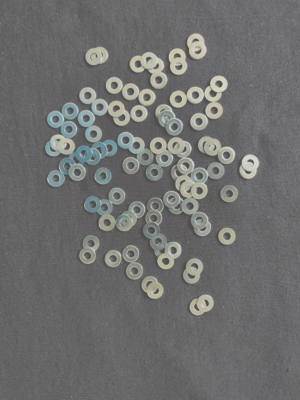circle: (182, 267, 202, 286), (121, 157, 141, 176), (47, 170, 66, 190), (103, 249, 122, 268), (149, 233, 168, 252), (93, 167, 112, 186), (116, 131, 135, 150), (85, 124, 104, 143), (186, 33, 205, 52), (97, 215, 117, 233), (174, 175, 194, 193), (144, 164, 164, 182), (209, 75, 229, 93), (140, 276, 159, 294), (189, 299, 207, 318), (78, 248, 97, 266), (81, 235, 100, 253), (165, 242, 183, 261), (96, 199, 114, 218), (218, 227, 237, 245), (100, 139, 118, 158), (128, 137, 147, 155), (155, 150, 174, 168), (150, 136, 168, 155), (220, 185, 239, 203), (197, 136, 216, 154), (239, 162, 258, 180), (46, 111, 65, 129), (78, 109, 96, 128), (84, 48, 102, 67), (105, 77, 124, 95), (122, 83, 140, 102), (130, 105, 148, 124), (150, 72, 169, 90), (205, 84, 223, 103), (123, 244, 140, 264), (174, 141, 194, 158), (168, 136, 185, 156), (92, 46, 109, 66), (190, 114, 210, 131), (186, 258, 204, 276), (115, 215, 133, 233), (168, 197, 186, 215), (108, 187, 126, 205), (69, 164, 87, 182), (137, 148, 155, 166), (218, 147, 236, 165), (79, 87, 97, 105), (168, 49, 186, 67), (163, 191, 182, 208), (189, 212, 208, 229), (182, 198, 199, 217), (170, 165, 189, 182), (207, 163, 226, 180), (241, 155, 260, 172), (91, 99, 108, 118), (155, 104, 172, 123), (205, 103, 224, 120), (187, 86, 204, 105), (189, 42, 208, 59), (148, 282, 164, 302), (155, 254, 175, 270), (146, 198, 166, 214), (193, 221, 213, 237), (197, 295, 214, 313), (126, 264, 144, 281), (155, 242, 172, 260), (143, 222, 160, 240), (84, 196, 102, 213), (67, 152, 85, 169), (83, 148, 100, 166), (90, 142, 107, 160), (192, 167, 209, 185), (205, 139, 222, 157), (58, 139, 76, 156), (60, 122, 78, 139), (113, 110, 131, 127), (139, 89, 156, 107), (158, 111, 175, 129), (170, 90, 187, 108), (141, 52, 158, 70), (130, 56, 147, 74), (170, 59, 188, 76), (191, 183, 208, 200), (178, 158, 195, 175), (44, 141, 61, 158), (61, 103, 78, 120), (128, 201, 144, 219), (121, 211, 137, 229), (59, 158, 75, 176), (109, 100, 125, 118), (166, 120, 184, 136), (149, 57, 165, 75), (75, 146, 91, 163), (49, 136, 66, 152), (181, 181, 196, 198), (146, 212, 163, 226)
